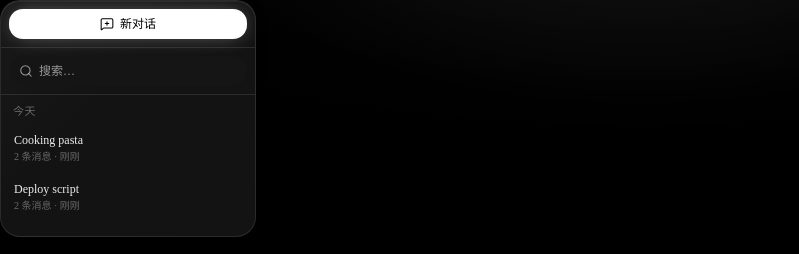
Test: ChatSidebar › filters by fuzzy match against title
Type "dep" into the search field with test id "chat-sidebar-search" at point(138, 71), box [39, 62, 237, 80]
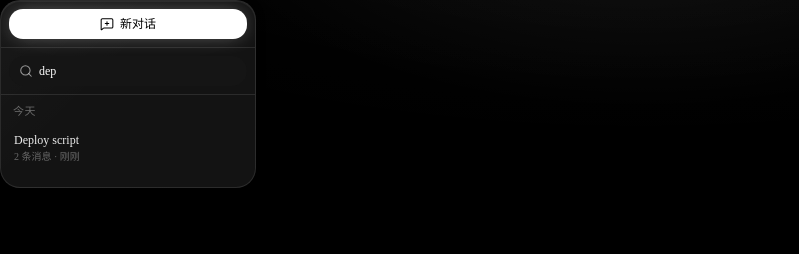
Expected: the text "Deploy script" is shown, [14, 132, 79, 146]
Now the link "Cooking pasta" is gone
